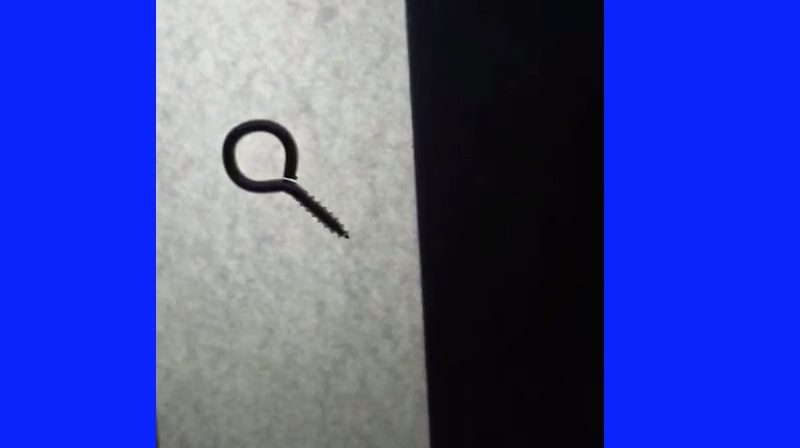O001: (220, 114, 352, 243)
